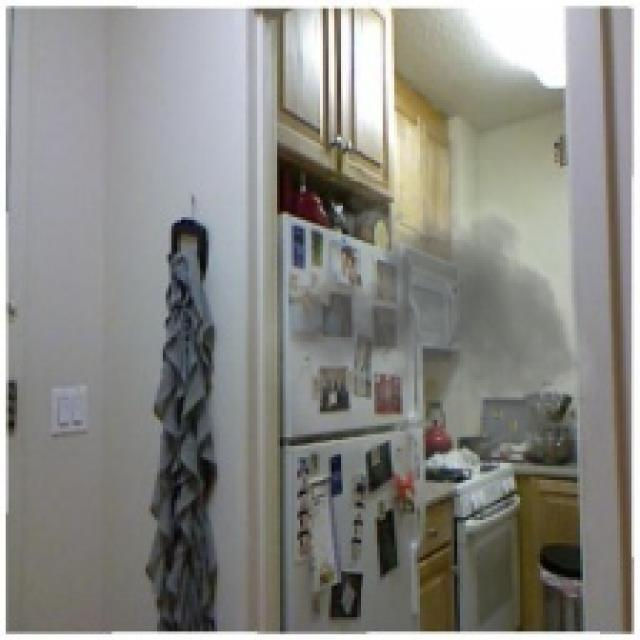Smoke: (260, 168, 609, 526)
